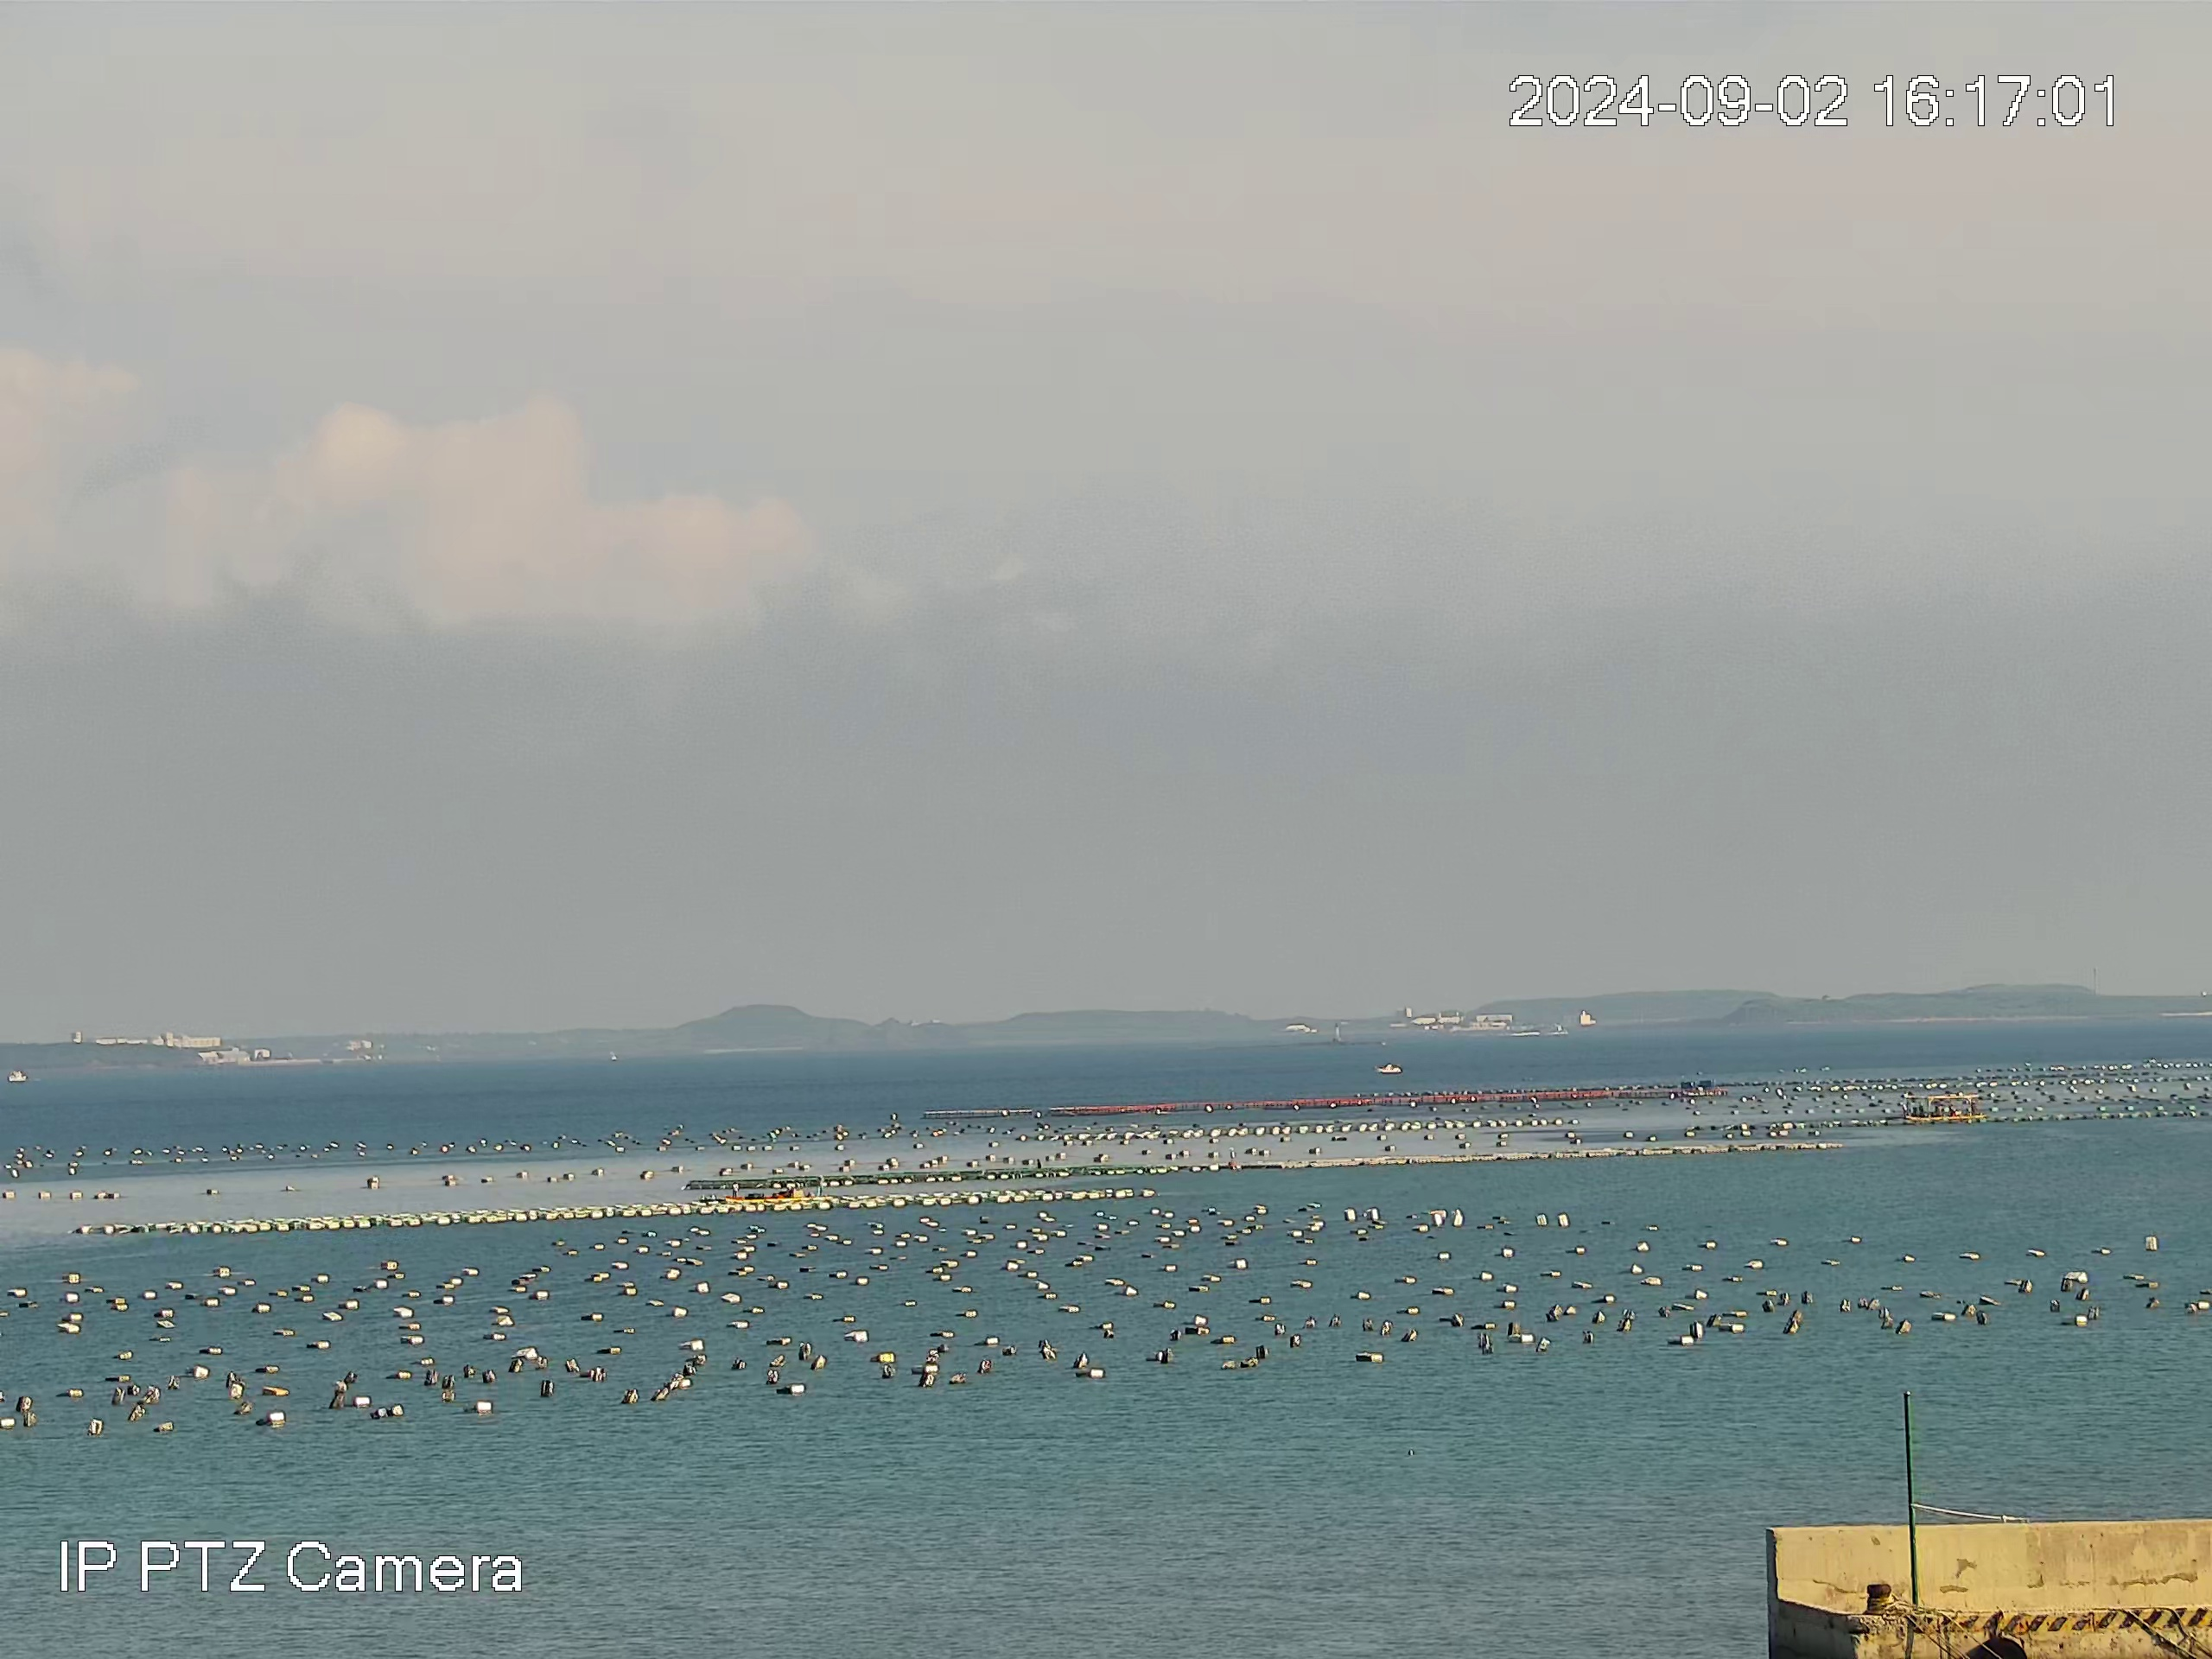boat: (1900, 1091, 1987, 1126), (723, 1180, 813, 1204), (1371, 1061, 1404, 1075)
